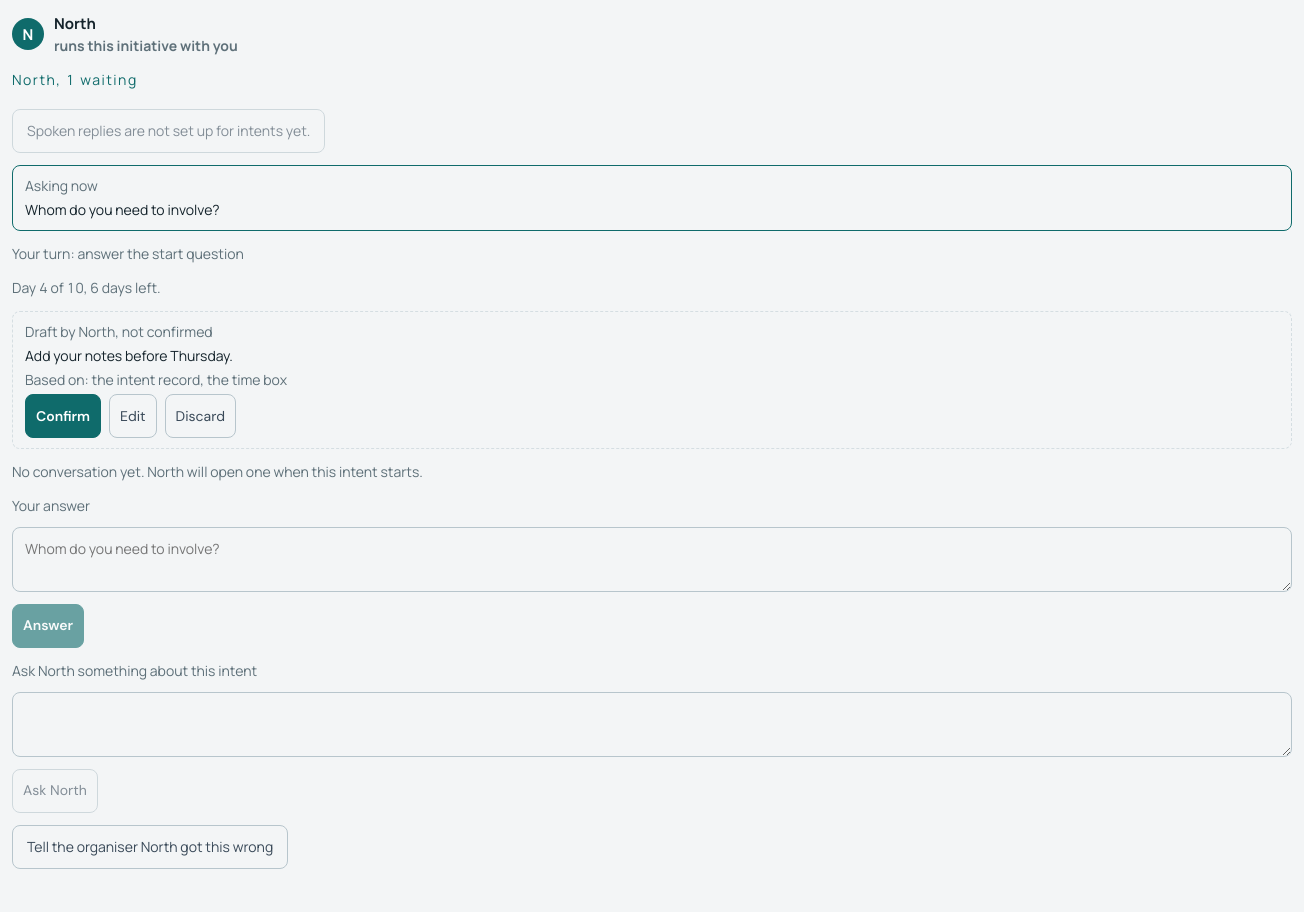
North panel › Answer is off until there is text, then posts to the turns route
expect the button "Answer" is disabled: met, box [12,604,84,648]
In the text box labelled "Your answer": (652,560) [12,527,1292,592], type "Daniel and Aaron"
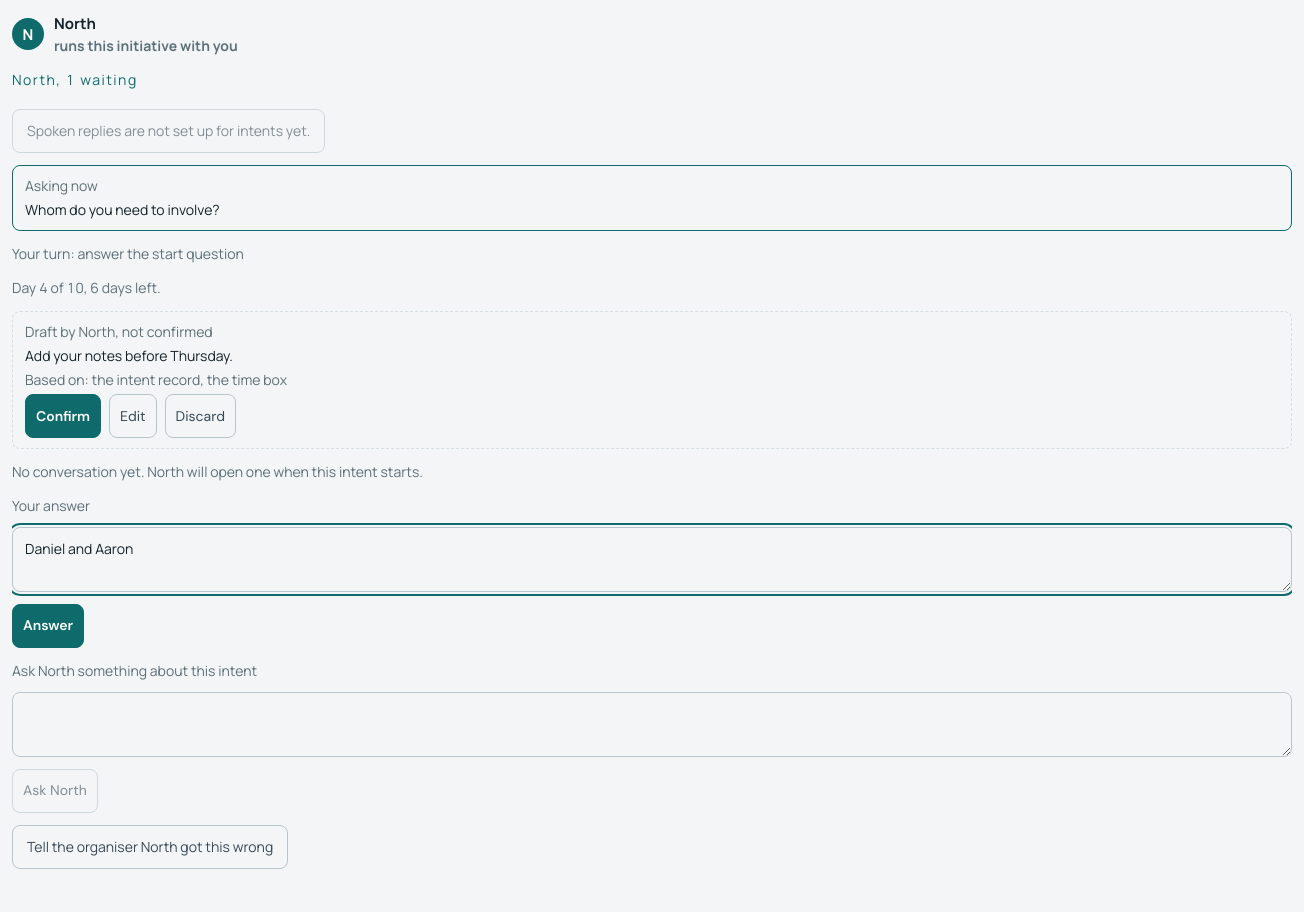
Click the button "Answer": (48,626) [12,604,84,648]
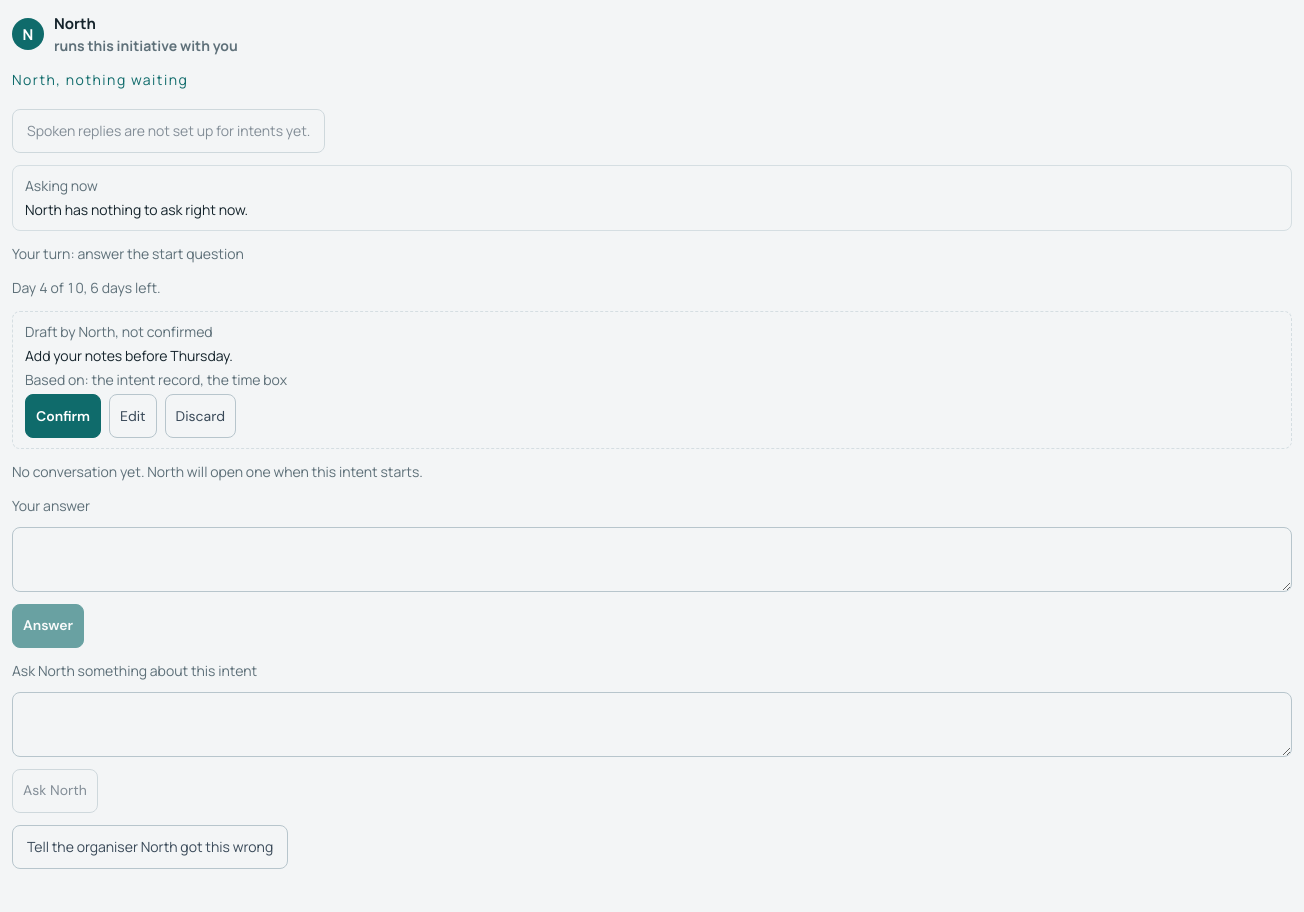
expect the text "North has nothing to ask right now." is shown: met, box [25,200,248,219]
